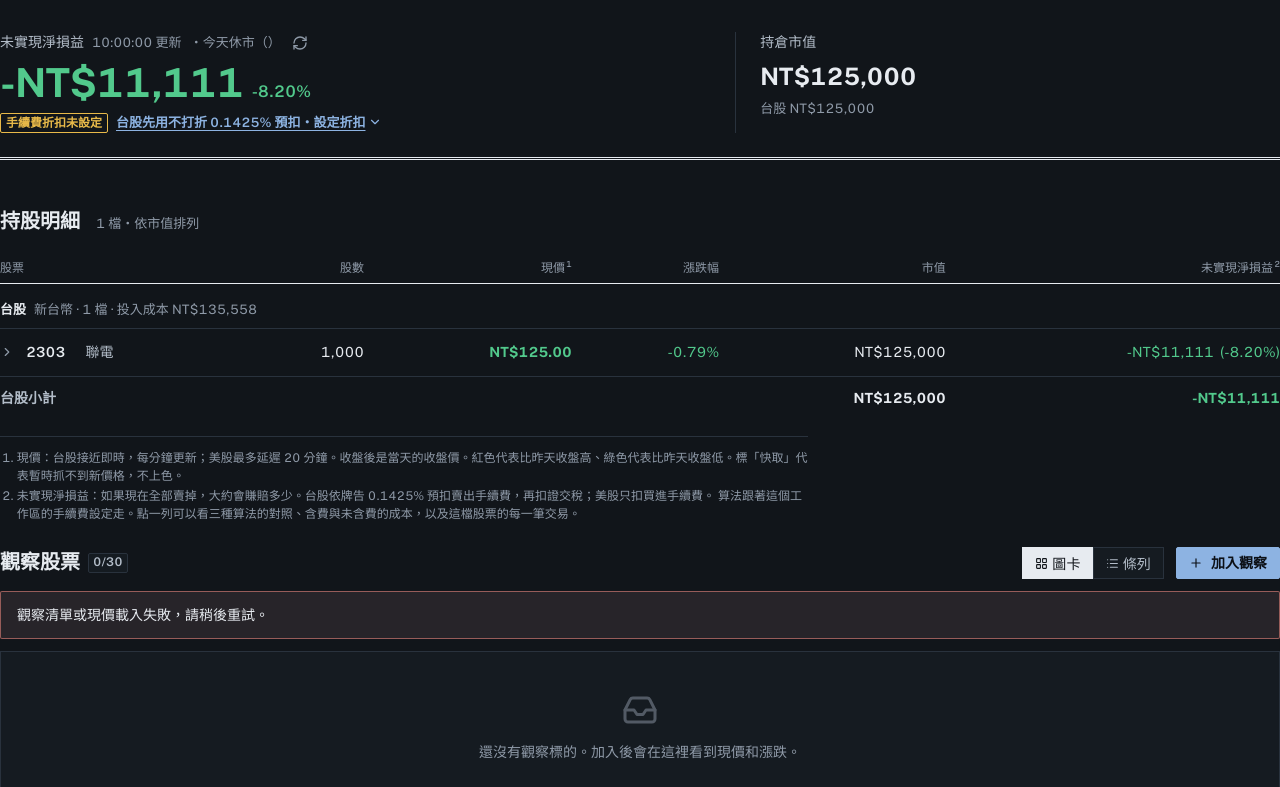
it: DashboardPage — 多空並存時的 KPI 加總（Task 141） › 展開後的三種算法並列：牌告口徑（券商 APP 月退制）的金額與報酬率
Click the row with test id "holding-row-2303": point(640, 352) top-left (0, 328), bottom-right (1279, 376)
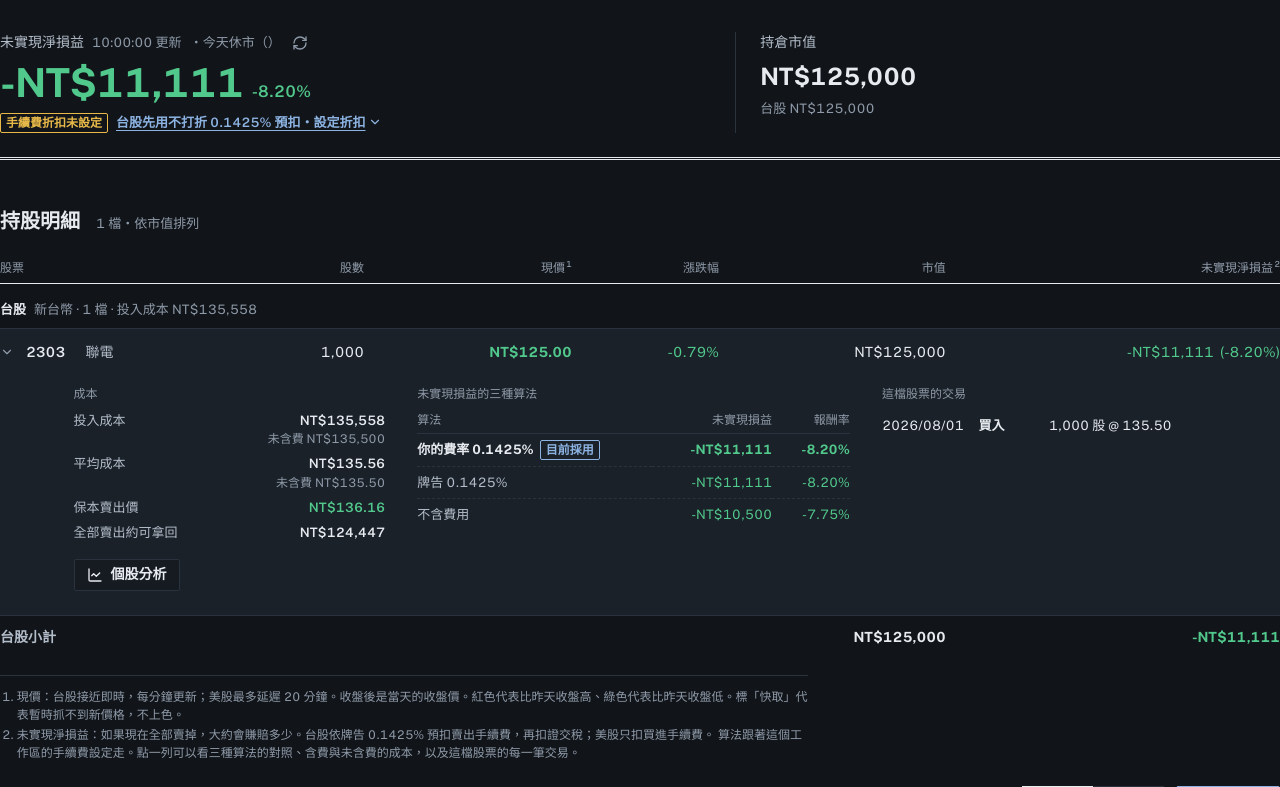
Now the row with test id "method-list" shows "-NT$11,111", box top-left (691, 474), bottom-right (772, 490)
Now the row with test id "method-list" shows "-8.20%", box top-left (802, 474), bottom-right (850, 490)
Now the row with test id "method-net" is shown, box top-left (417, 433), bottom-right (850, 466)
